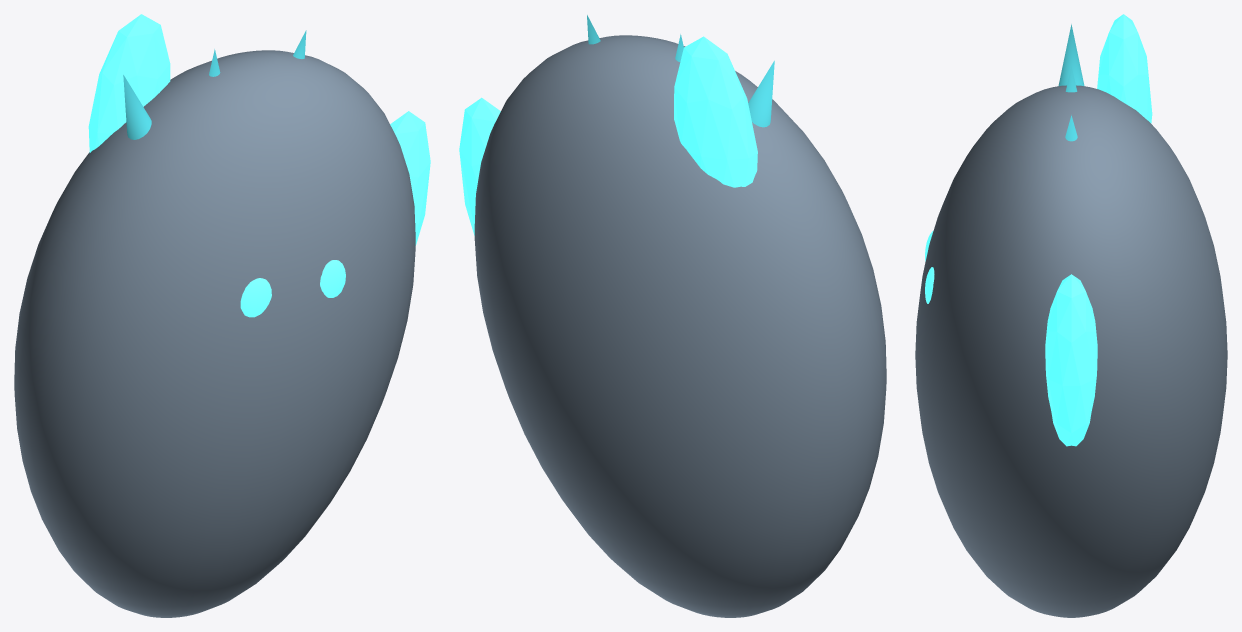
File: ooze_v4.glb
3 renders of one model, left to right at view 1: azimuth 30°, elevation 25°; view 2: azimuth 150°, elevation 25°; view 3: azimuth 270°, elevation 25°, orthographic. The views are drawn at different scales.
Visible parts, largest first — view 1: CORE_BODY_PRIMARY, ENERGY_SHARD_EMISSIVE.001, ENERGY_SHARD_EMISSIVE, CROWN_HORN_ACCENT, EYE_EMISSIVE, EYE_EMISSIVE.001; view 2: CORE_BODY_PRIMARY, ENERGY_SHARD_EMISSIVE.001, ENERGY_SHARD_EMISSIVE, CROWN_HORN_ACCENT; view 3: CORE_BODY_PRIMARY, ENERGY_SHARD_EMISSIVE, ENERGY_SHARD_EMISSIVE.001, CROWN_HORN_ACCENT.
Boxes of the visible parts, x1=… form: CORE_BODY_PRIMARY: x1=14, y1=50, x2=415, y2=617; ENERGY_SHARD_EMISSIVE.001: x1=88, y1=14, x2=170, y2=152; ENERGY_SHARD_EMISSIVE: x1=390, y1=111, x2=430, y2=245; CROWN_HORN_ACCENT: x1=123, y1=75, x2=151, y2=139; EYE_EMISSIVE: x1=240, y1=278, x2=271, y2=317; EYE_EMISSIVE.001: x1=320, y1=260, x2=345, y2=297; CORE_BODY_PRIMARY: x1=474, y1=35, x2=886, y2=617; ENERGY_SHARD_EMISSIVE.001: x1=674, y1=36, x2=757, y2=187; ENERGY_SHARD_EMISSIVE: x1=459, y1=97, x2=500, y2=235; CROWN_HORN_ACCENT: x1=748, y1=60, x2=774, y2=127; CORE_BODY_PRIMARY: x1=915, y1=85, x2=1227, y2=617; ENERGY_SHARD_EMISSIVE: x1=1045, y1=274, x2=1097, y2=446; ENERGY_SHARD_EMISSIVE.001: x1=1097, y1=14, x2=1152, y2=123; CROWN_HORN_ACCENT: x1=1058, y1=24, x2=1084, y2=86.
Size of the model in its own units: 1.68 by 2.33 by 1.12.
